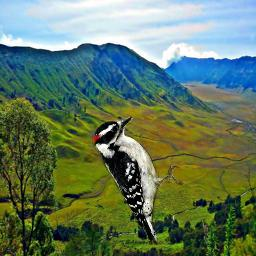Woodpecker: (92, 116, 186, 245)
